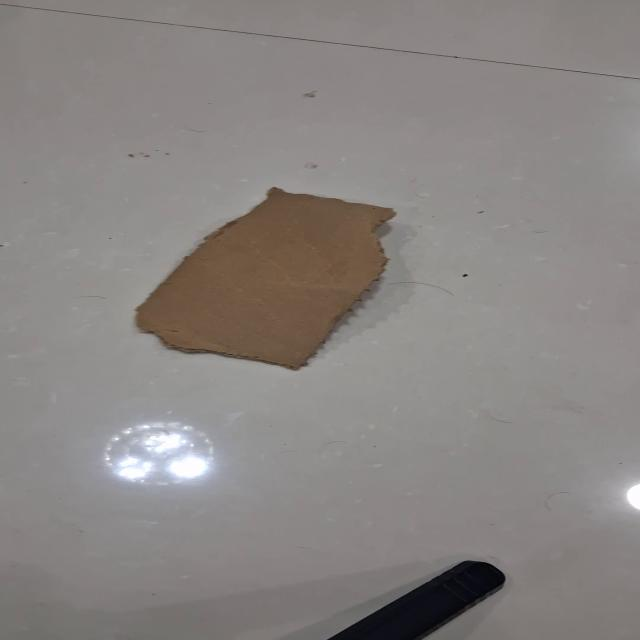paper: (133, 185, 397, 371)
